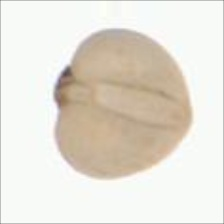L5: (80, 76, 187, 132), (51, 64, 80, 113)
L6: (51, 26, 196, 180)
